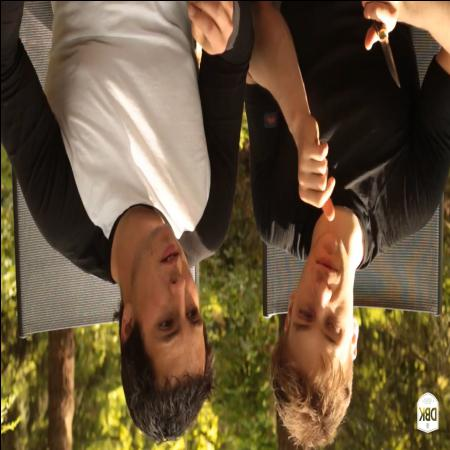long weapon: (358, 1, 405, 108)
